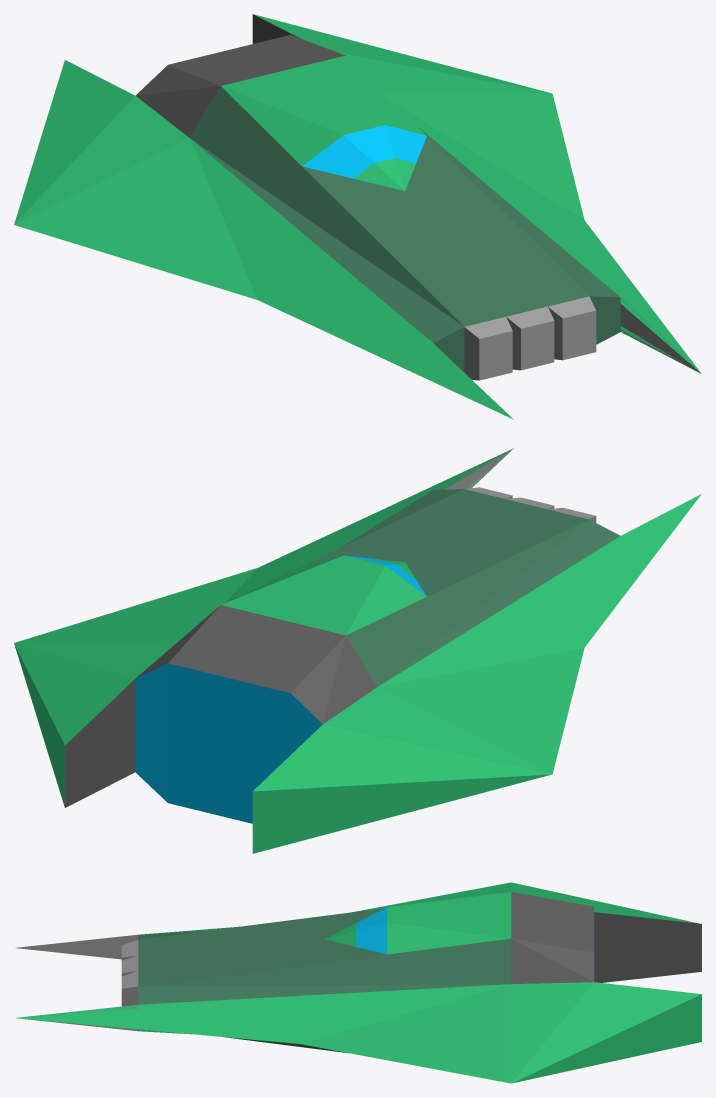
File: tri_missile3.fbx
The picture shows the model from 3 angles, top to bottom: view 1: azimuth 30°, elevation 25°; view 2: azimuth 150°, elevation 25°; view 3: azimuth 270°, elevation 25°; orthographic projection. The views are drawn at different scales.
Parts seen in each view (by area): view 1: tri_frigate_missile; view 2: tri_frigate_missile; view 3: tri_frigate_missile.
Boxes of the visible parts, x1=… form: tri_frigate_missile: x1=14, y1=14, x2=701, y2=419; tri_frigate_missile: x1=14, y1=448, x2=701, y2=853; tri_frigate_missile: x1=15, y1=882, x2=701, y2=1083.
Size of the model in its own units: 28.71 by 9.03 by 41.5.
1 material, 1 textured.
